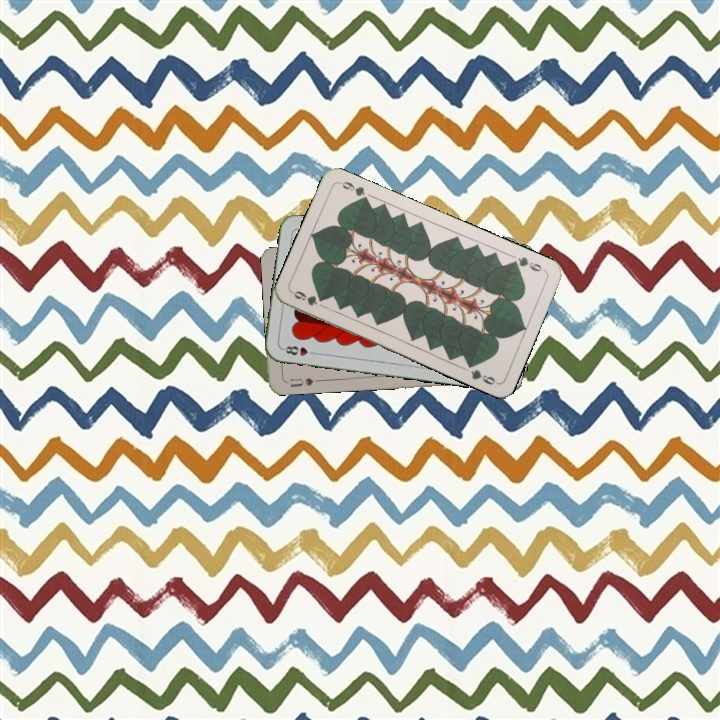G9: (506, 252, 548, 274), (288, 287, 320, 308)
H8: (279, 342, 319, 358)
SU: (282, 374, 322, 389)
